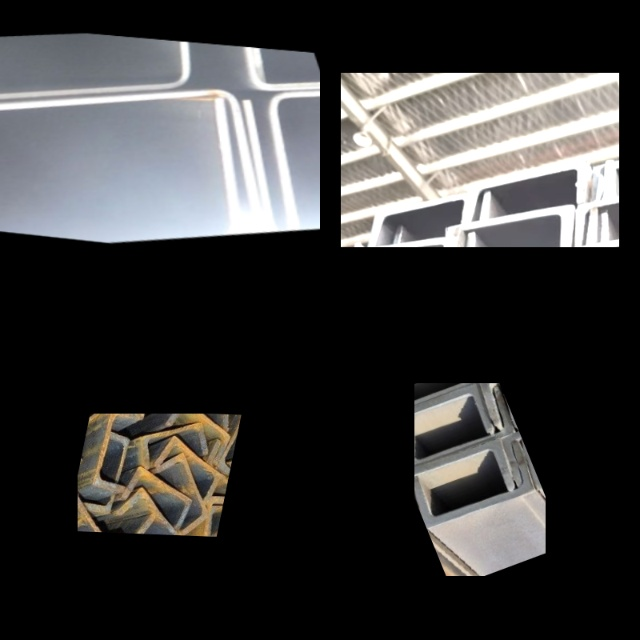Shveller: (0, 70, 263, 260), (0, 80, 243, 258), (0, 25, 196, 126), (248, 91, 320, 243), (414, 443, 535, 529), (414, 388, 514, 469), (414, 441, 515, 521), (265, 91, 320, 236), (467, 163, 588, 221), (414, 385, 494, 464), (148, 455, 219, 535), (369, 196, 465, 247), (467, 209, 595, 247), (396, 192, 490, 242), (151, 439, 227, 500), (119, 471, 195, 528), (94, 414, 143, 489), (247, 47, 320, 93), (163, 414, 232, 462), (140, 423, 212, 469), (116, 491, 190, 535), (88, 436, 130, 511), (575, 176, 619, 244), (252, 47, 320, 83), (80, 414, 128, 465), (346, 227, 460, 247), (414, 383, 493, 410), (78, 487, 119, 533), (414, 383, 476, 413), (203, 442, 236, 498), (503, 435, 538, 485), (594, 137, 619, 200), (479, 383, 513, 423), (138, 517, 204, 536), (570, 222, 619, 247), (605, 128, 619, 196), (605, 179, 619, 240)
